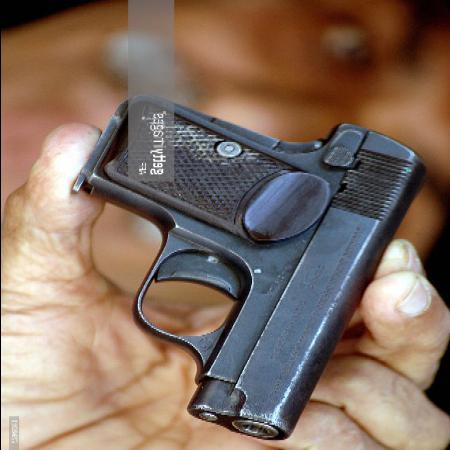Pistol: (76, 93, 426, 442)
